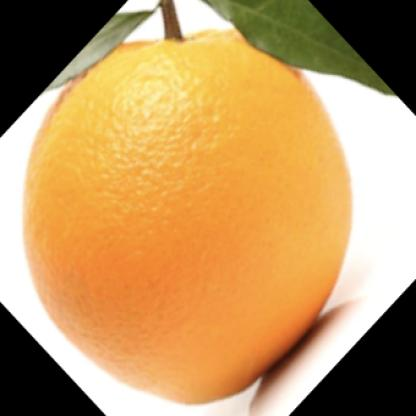fresh: (26, 32, 354, 404)
